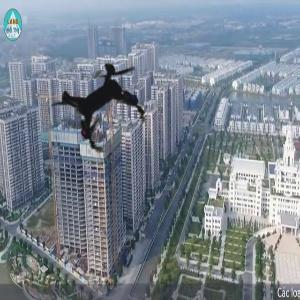drone: (22, 18, 187, 183)
